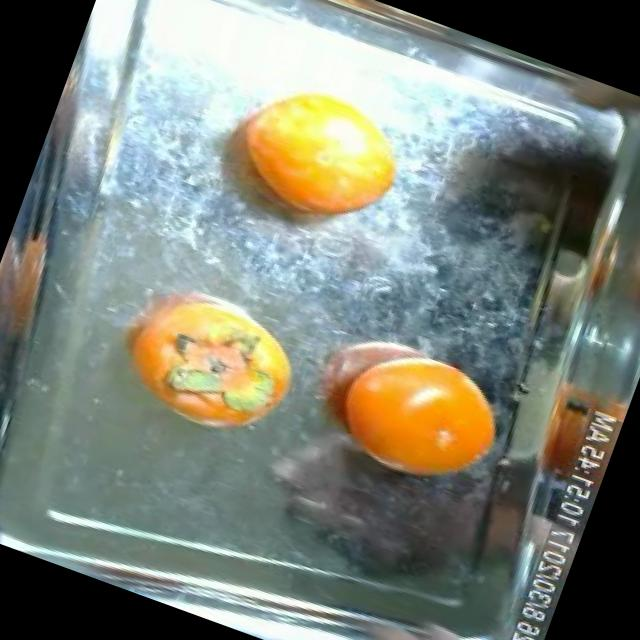Fruit: (296, 310, 536, 520), (200, 52, 434, 258), (107, 264, 330, 456)
